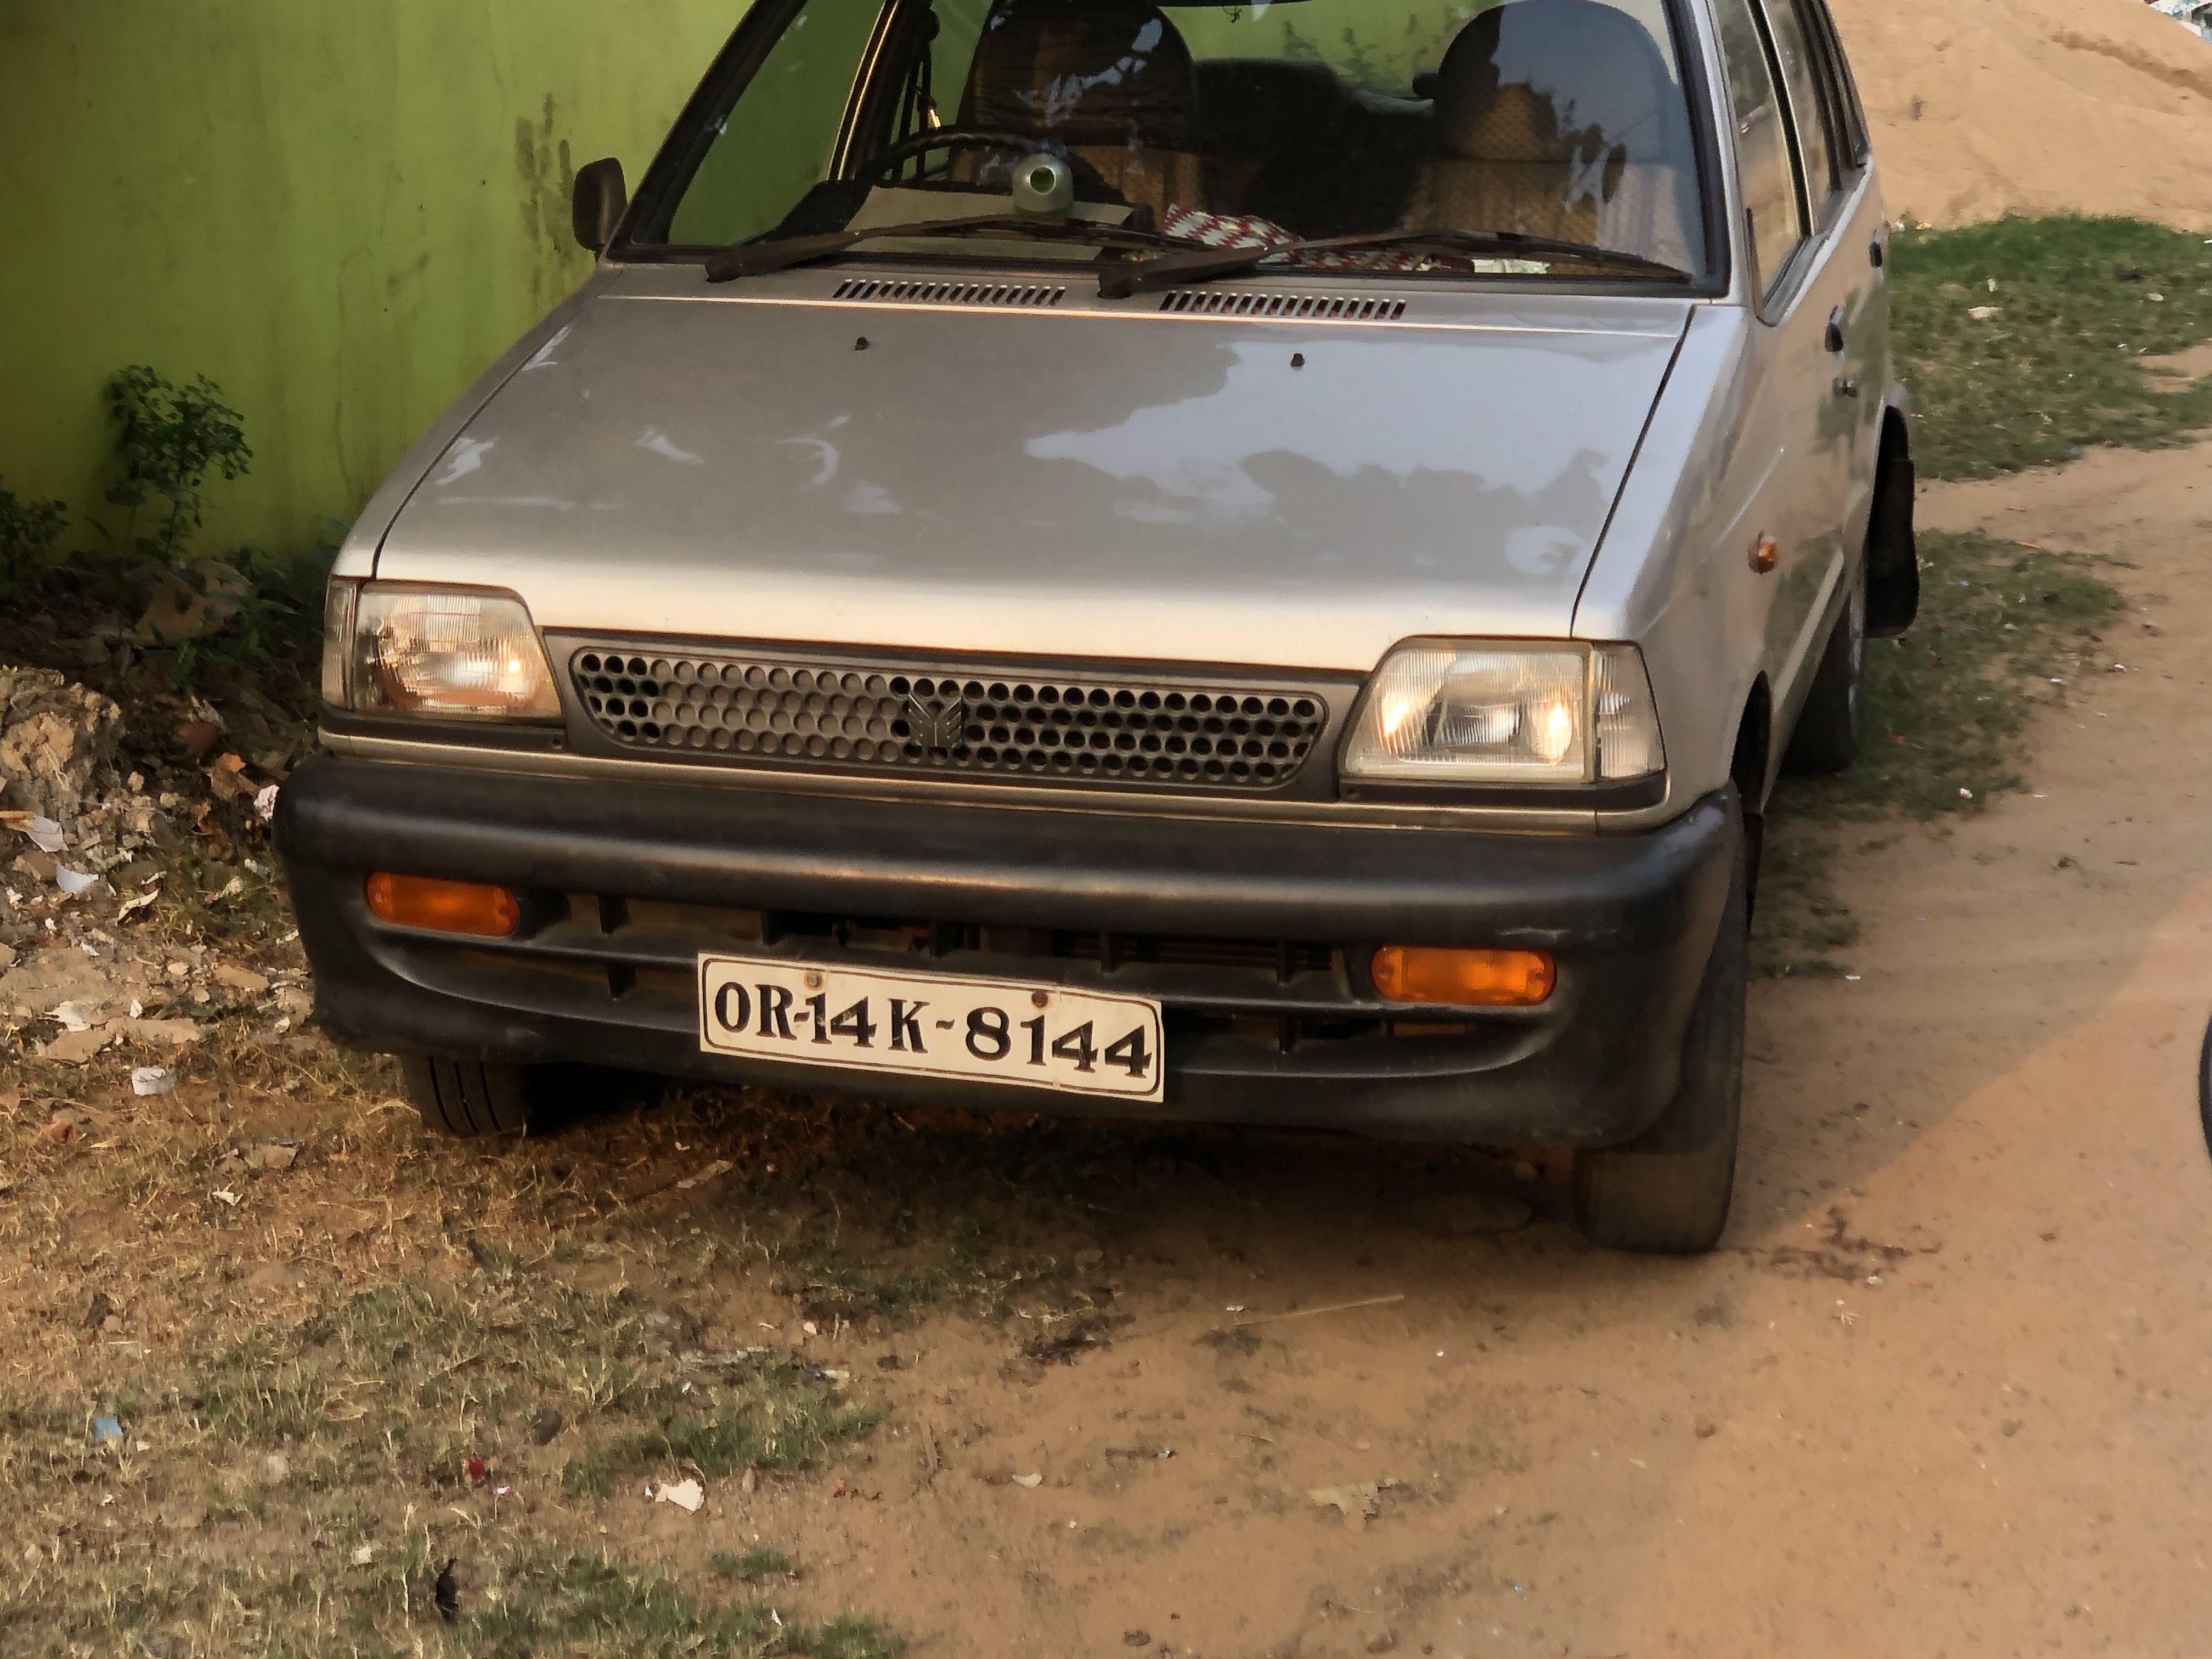licenseplate: (689, 941, 1164, 1116)
